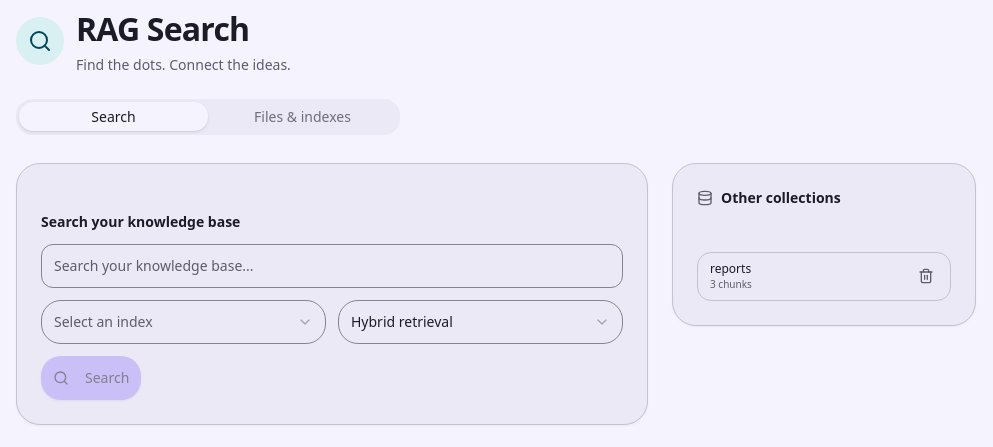
RAG Page › keeps the leftover E2E collection out of user-facing index choices
This screenshot has width=993, height=447.
Click the dropdown named "Search index": (103, 321) [41,300,326,344]
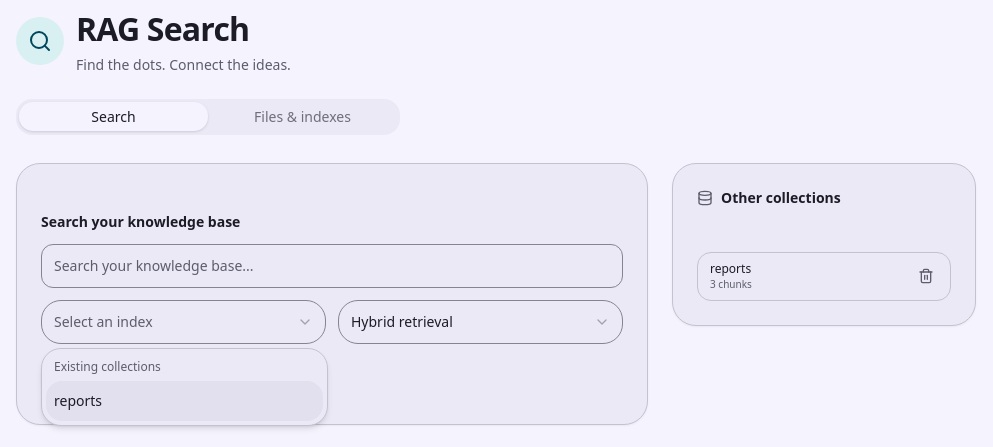
Check: the option "reports" is shown, box [46,381,323,421]
